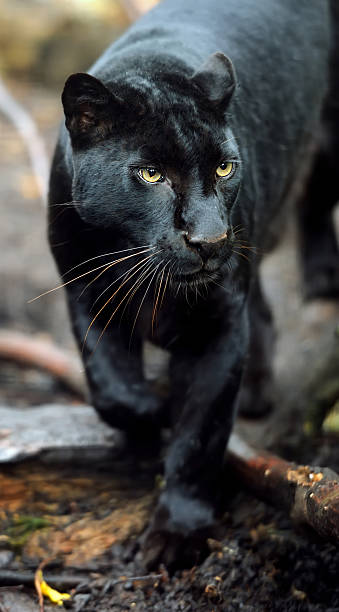panther: (27, 43, 283, 341)
